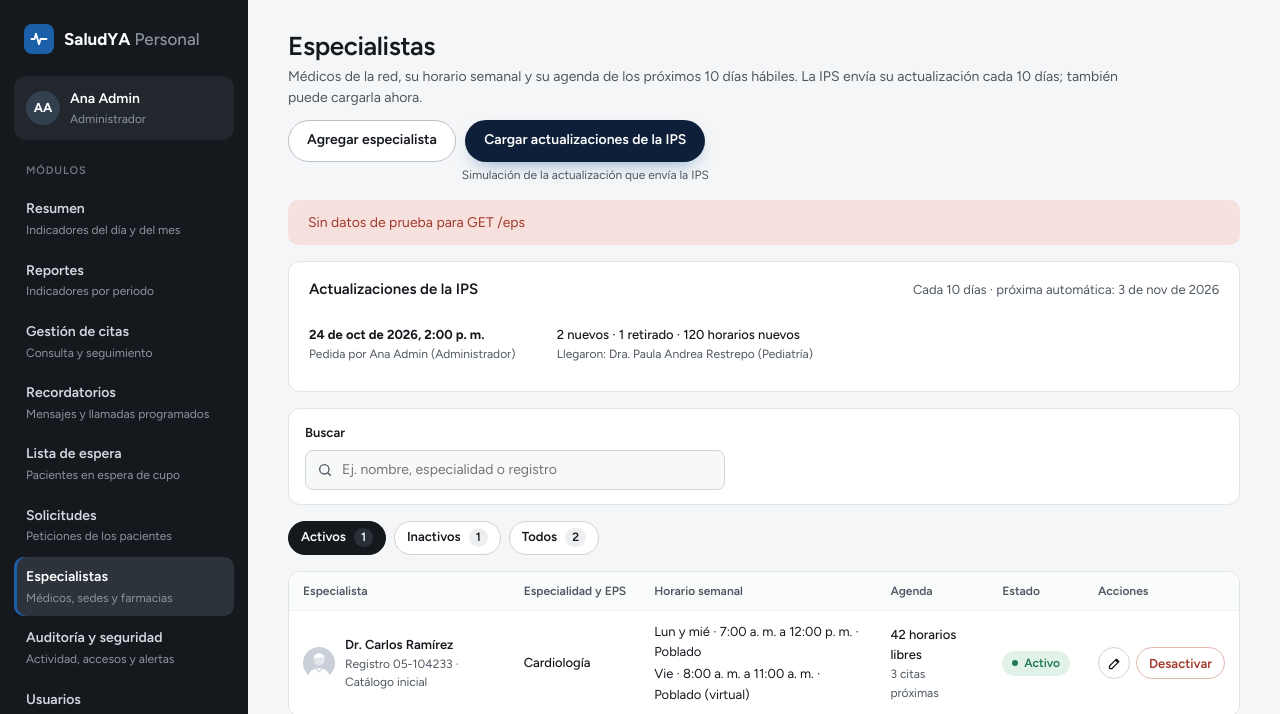
Test case: Especialistas › muestra la red, las actualizaciones de la IPS y filtra por estado
Expected: the text "Dr. Carlos Ramírez" is shown, [345,637,453,652]
Expected: the text "Registro 05-104233 · Catálogo inicial" is shown, [345,657,458,689]
Click the button "Inactivos 1".
click(447, 538)  # box [394,520,501,554]
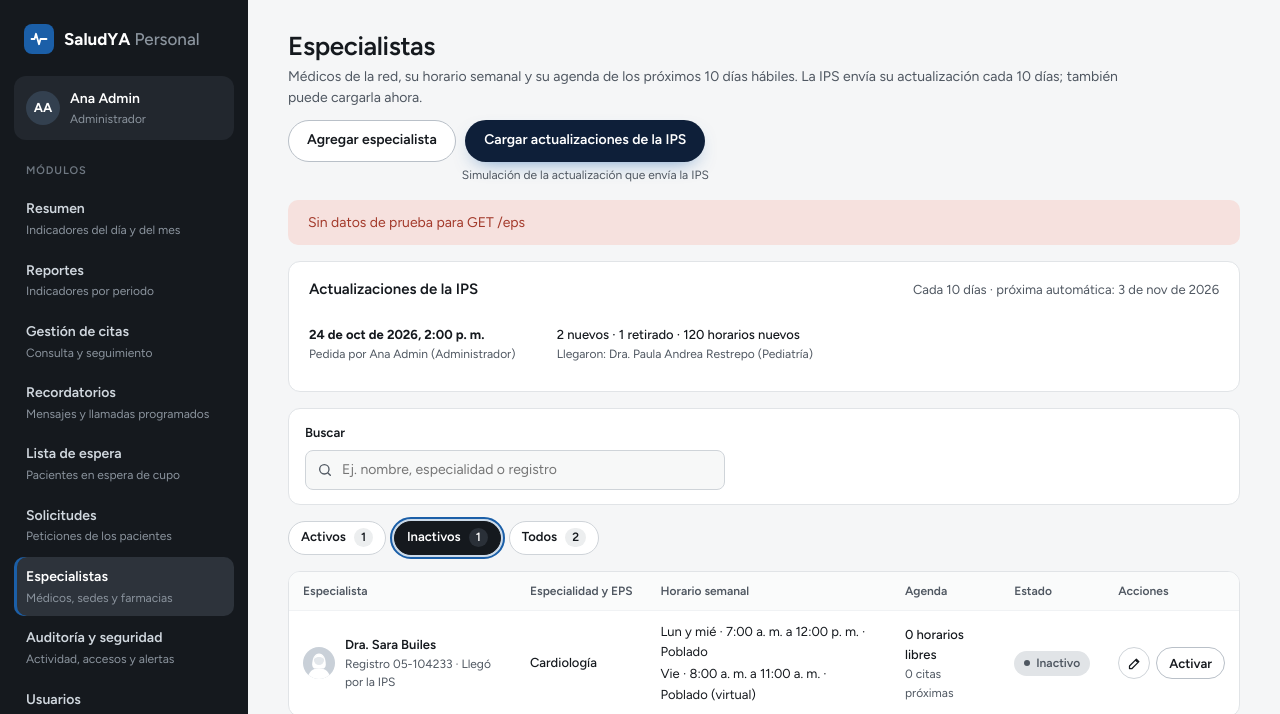
Expected: the text "Pedida por Ana Admin (Administrador)" is shown, [309,345,541,363]
Expected: the text "Dra. Sara Builes" is shown, [345,637,436,652]
